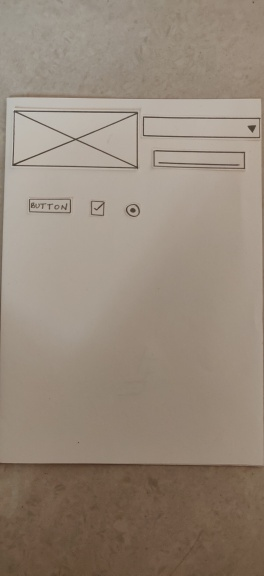button: (26, 196, 72, 216)
checkbox: (142, 112, 262, 142), (89, 198, 106, 218)
img: (11, 107, 141, 173)
radio: (123, 201, 143, 219)
text: (150, 146, 248, 174)
